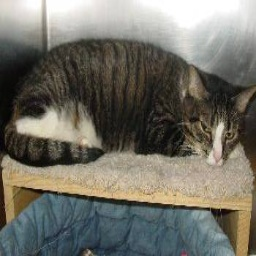cat: (1, 41, 256, 167)
